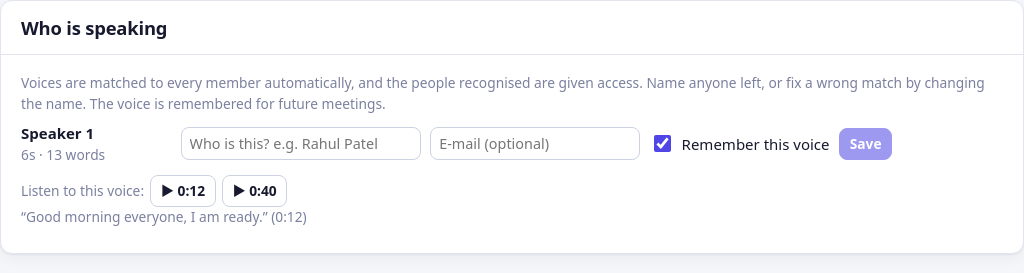
Test: hearing who an unnamed speaker is › plays from the clip start, fetching the recording only once
Click the button named "Play Speaker 1 at 0:12". click: (183, 191)
box: [150, 175, 216, 207]
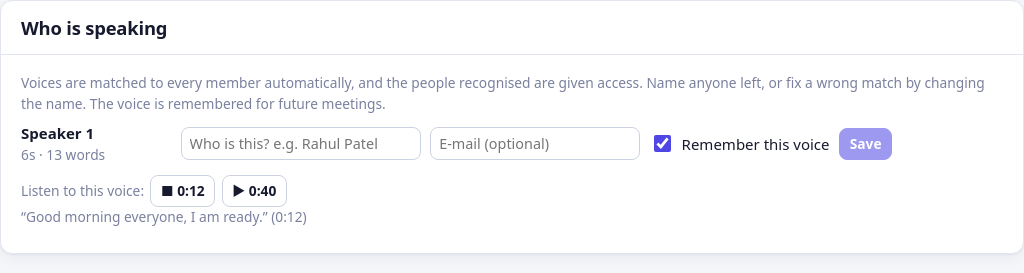
Click the button named "Play Speaker 1 at 0:40". click: (254, 191)
box: [222, 175, 287, 207]
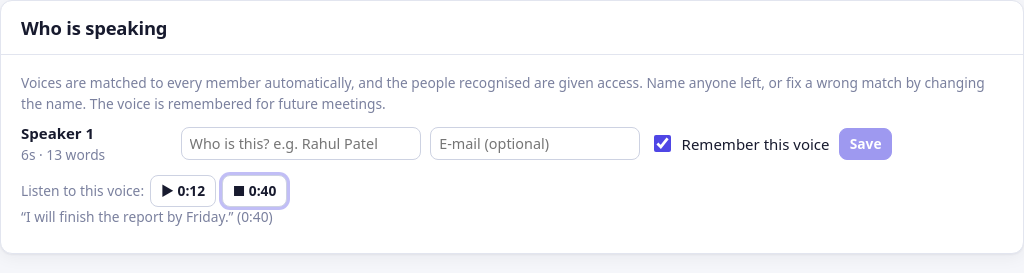
Result: the text "“I will finish the report by Friday.” (0:40)" is shown at [21, 207, 273, 226]
